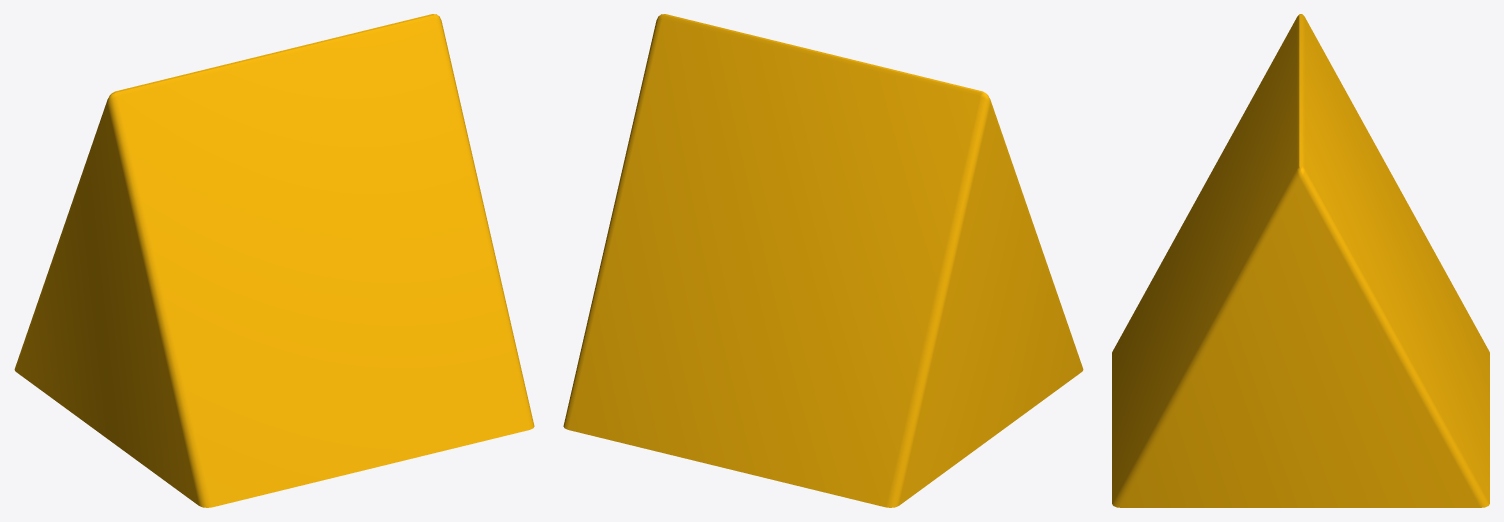
File: Roof.fbx
3 renders of one model, left to right at view 1: azimuth 30°, elevation 25°; view 2: azimuth 150°, elevation 25°; view 3: azimuth 270°, elevation 25°, orthographic. The views are drawn at different scales.
Visible parts, largest first — view 1: Roof; view 2: Roof; view 3: Roof.
Boxes of the visible parts, left/top/right/bottom form: Roof: left=14, top=14, right=534, bottom=507; Roof: left=563, top=14, right=1083, bottom=507; Roof: left=1112, top=14, right=1489, bottom=507.
Bounding box in the file's own units: 1 × 0.9858 × 1.
